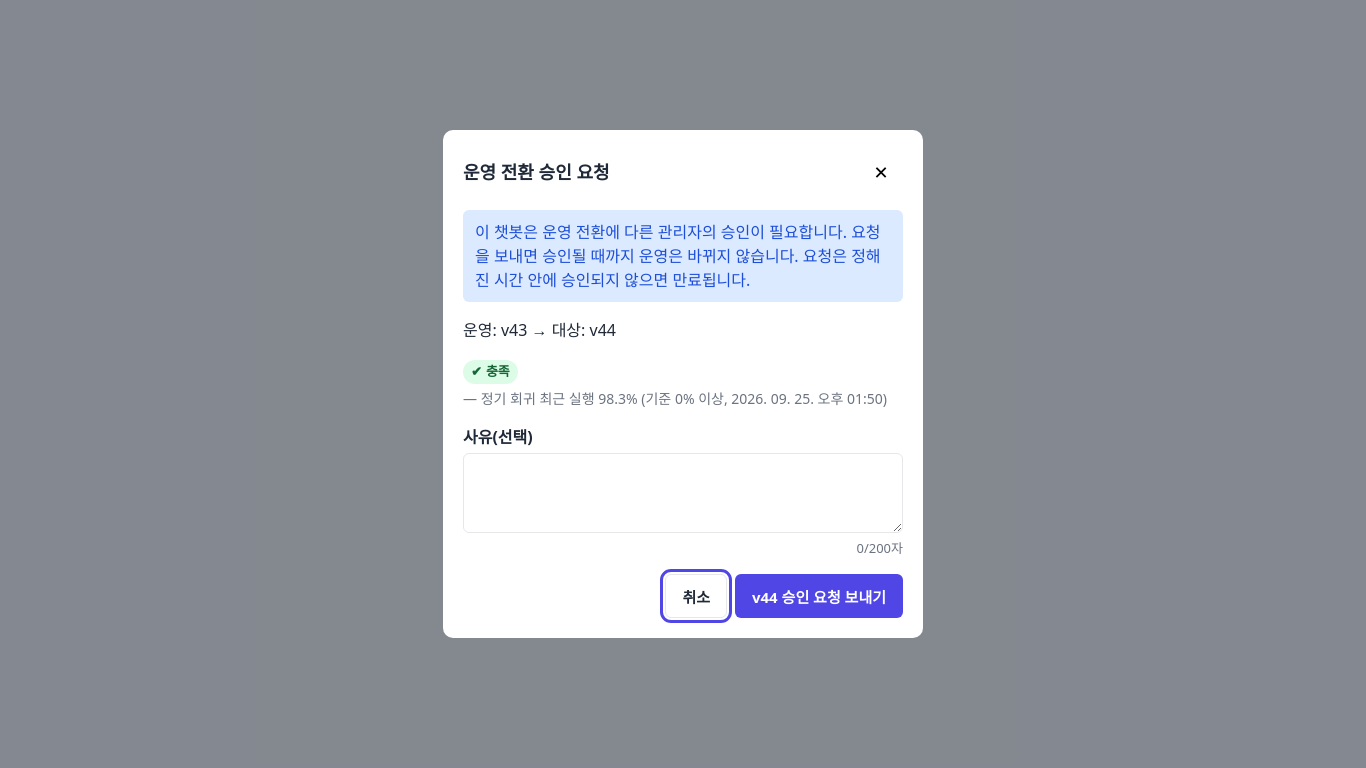
Test case: ProdSwitchDialog — 요청 모드(정책 켜짐) › 요청이 409(대기 요청 이미 있음)면 안내와 "대기 중인 요청 보기" 링크를 보인다
Click the button "v44 승인 요청 보내기" at (819, 596), box [735,574,903,618]
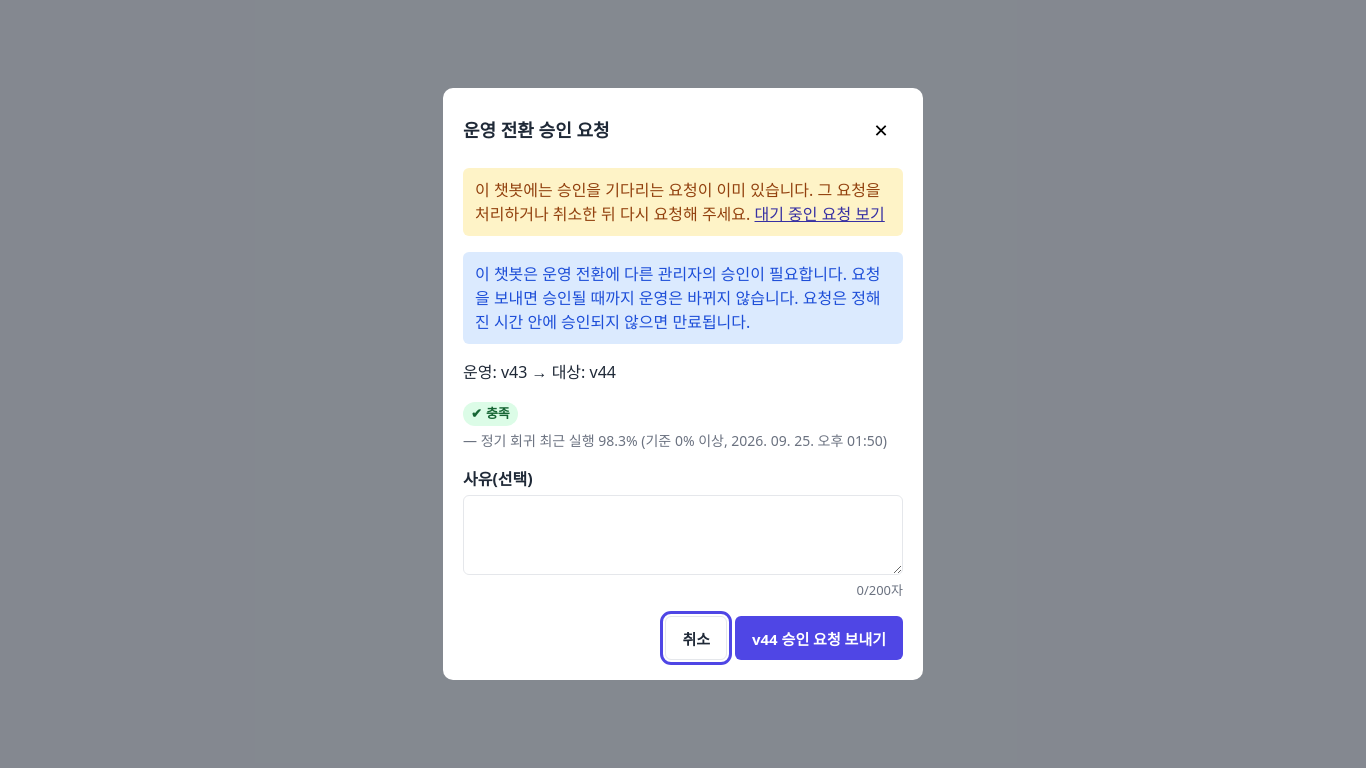
expect the text "이 챗봇에는 승인을 기다리는 요청이 이미 있습니다. 그 요청을 처리하거나 취소한 뒤 다시 요청해 주세요. 대기 중인 요청 보기" is shown: met, box [463,168,903,236]
